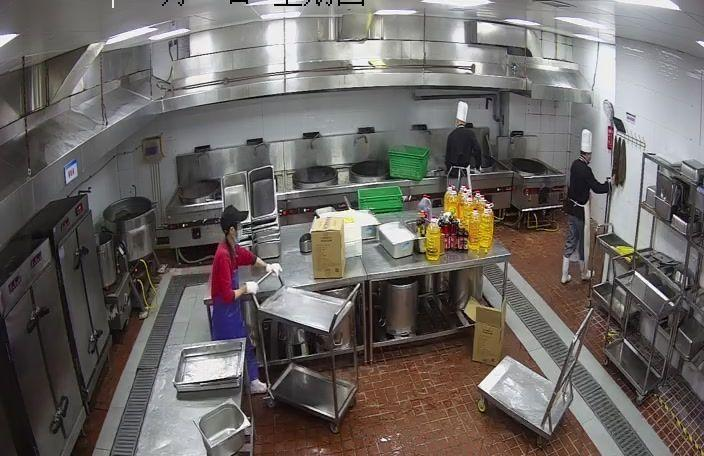apron: (264, 261, 285, 277), (241, 282, 262, 294)
mask: (229, 223, 249, 244)
